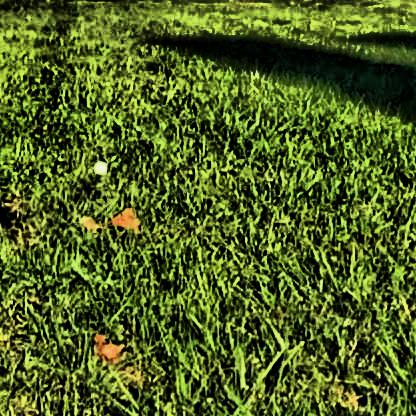golfball: (91, 156, 106, 171)
